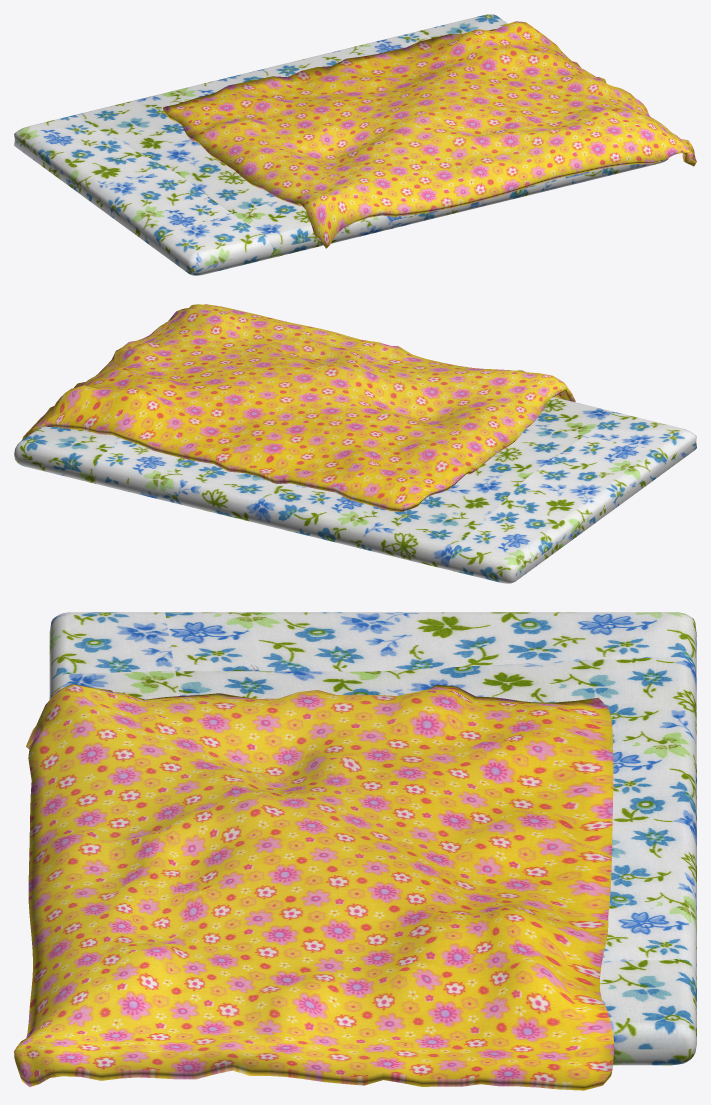
Rendered from mattress_blanket.glb.
3 views of the same model, one above another, from view 1: azimuth 30°, elevation 25°; view 2: azimuth 150°, elevation 25°; view 3: azimuth 270°, elevation 25° (orthographic). The views are drawn at different scales.
Visible parts, largest first — view 1: MattressBlanket; view 2: MattressBlanket; view 3: MattressBlanket.
Boxes of the visible parts, x1=… form: MattressBlanket: x1=14, y1=14, x2=696, y2=275; MattressBlanket: x1=14, y1=304, x2=696, y2=583; MattressBlanket: x1=14, y1=612, x2=696, y2=1090.
Bounding box in the file's own units: 2.66 × 0.2852 × 1.73.
2 materials, 2 textured.
